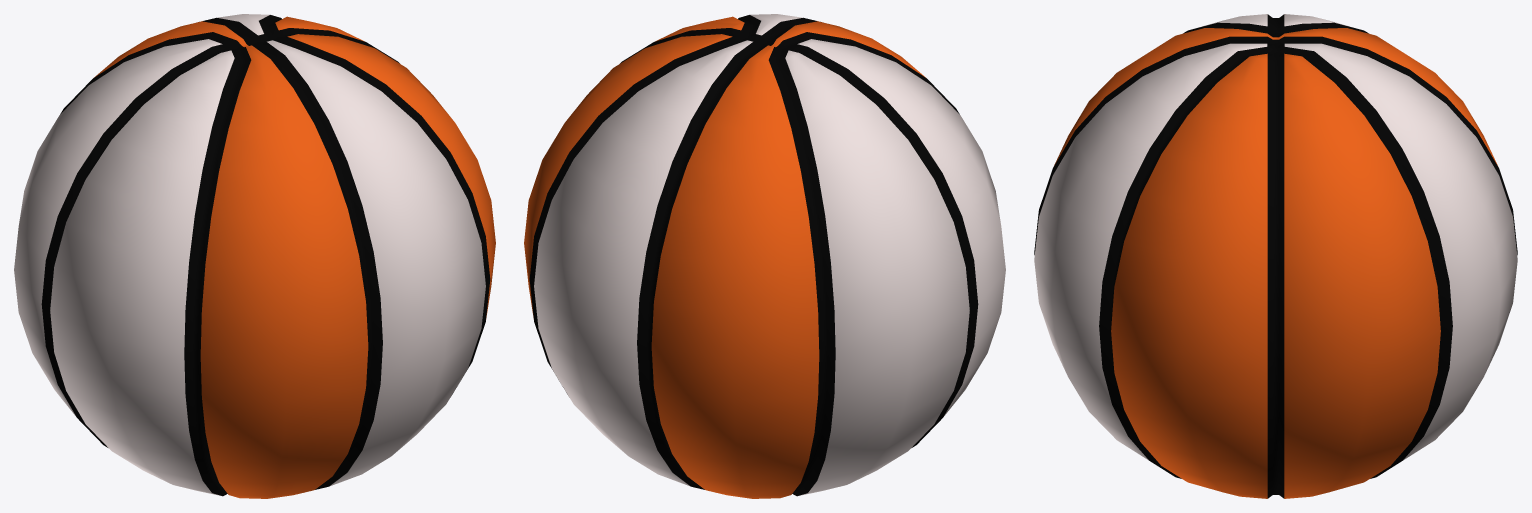
Rendered from Basketball4.glb.
3 views of the same model, side by side, from view 1: azimuth 30°, elevation 25°; view 2: azimuth 150°, elevation 25°; view 3: azimuth 270°, elevation 25° (orthographic).
Parts seen in each view (by area): view 1: Sphere.003; view 2: Sphere.003; view 3: Sphere.003.
Boxes of the visible parts, x1,y1,x2,y2 form: Sphere.003: (14, 14, 495, 498); Sphere.003: (524, 14, 1005, 498); Sphere.003: (1034, 14, 1517, 498).
Bounding box in the file's own units: 1.99 × 1.96 × 1.99.
